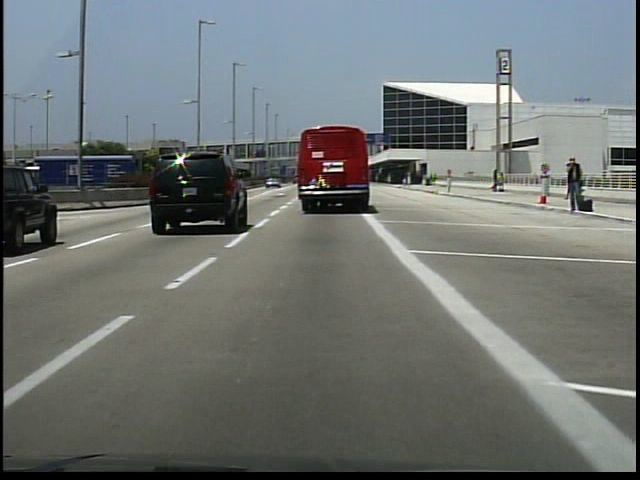person: (562, 153, 586, 217), (564, 172, 587, 206)
